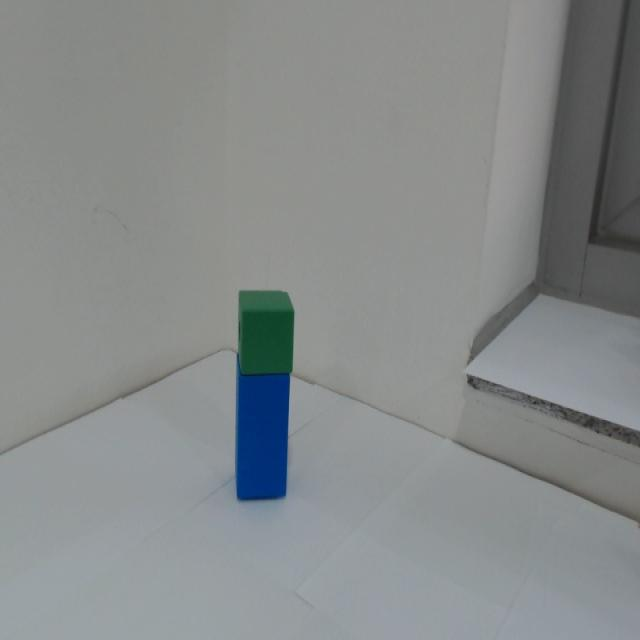cube: (227, 282, 306, 376)
